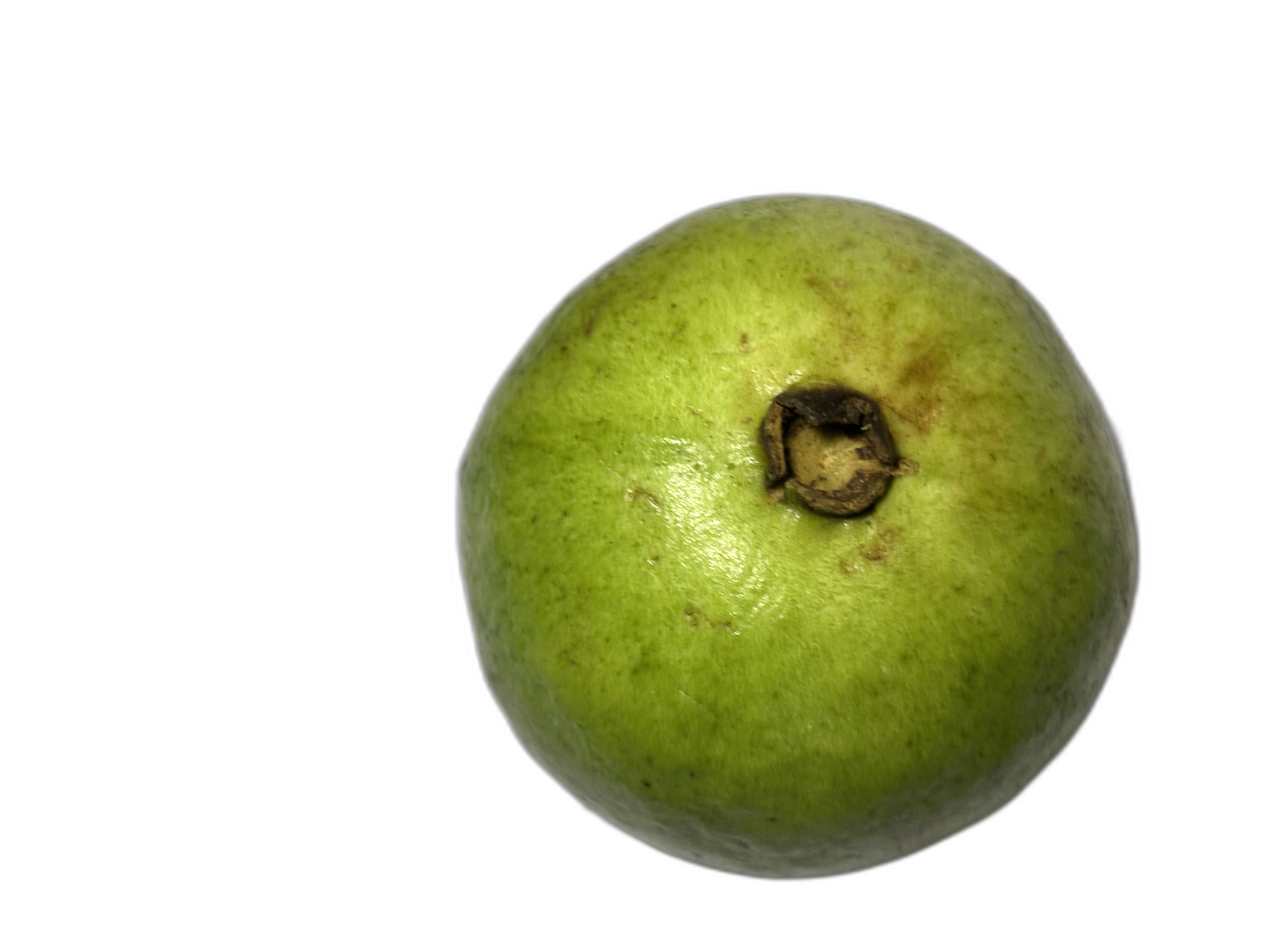guava: (158, 86, 1128, 815)
